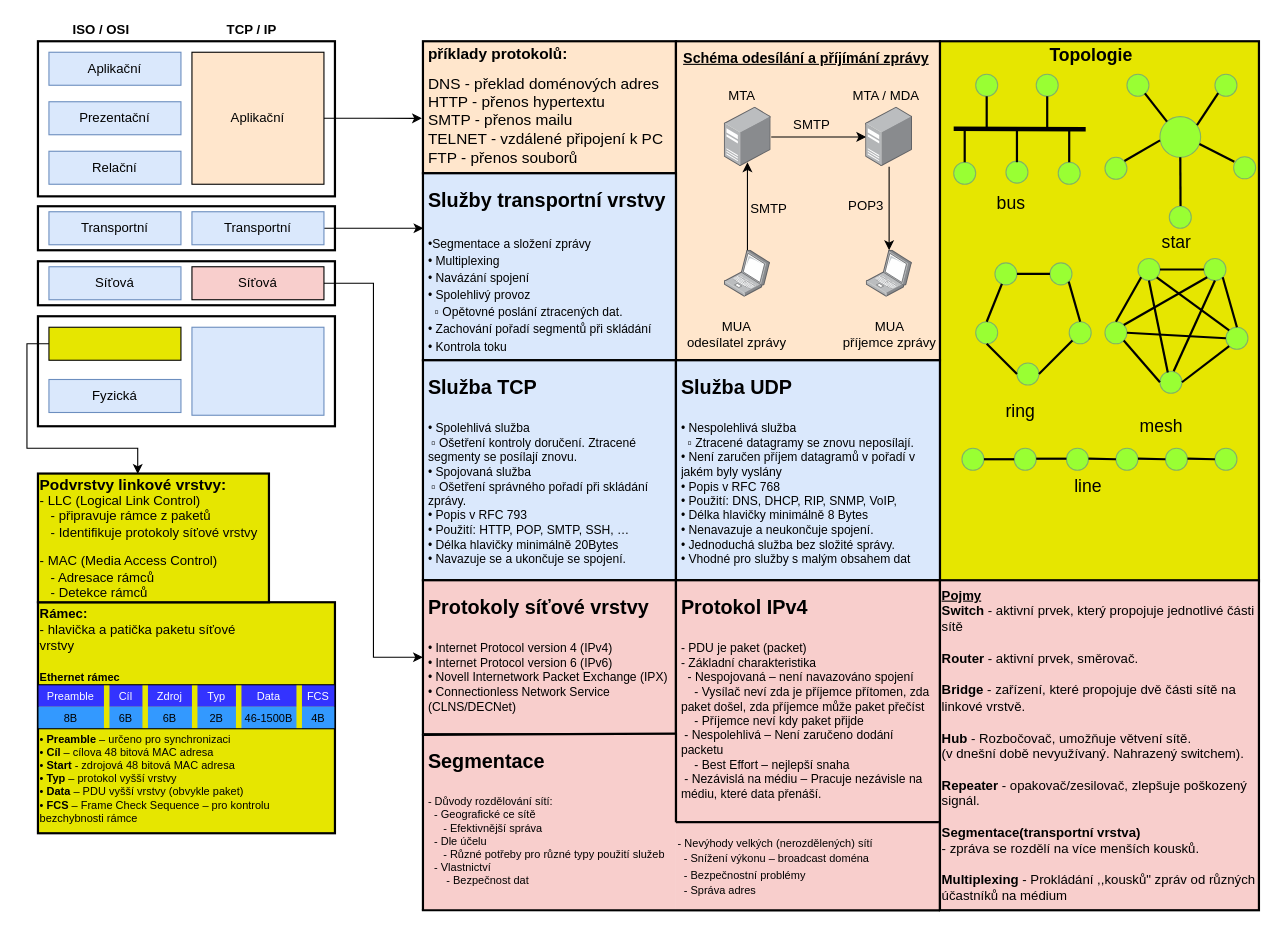
Some shapes in this 1279 by 932 pixel diagram are drawn without their labels. The shapes that lost their labels are listed below. From the top down, each one's centre as x and y in pixels, then its label:
At [114,343]: "Linková".
At [257,370]: "Přístup k médiu".
